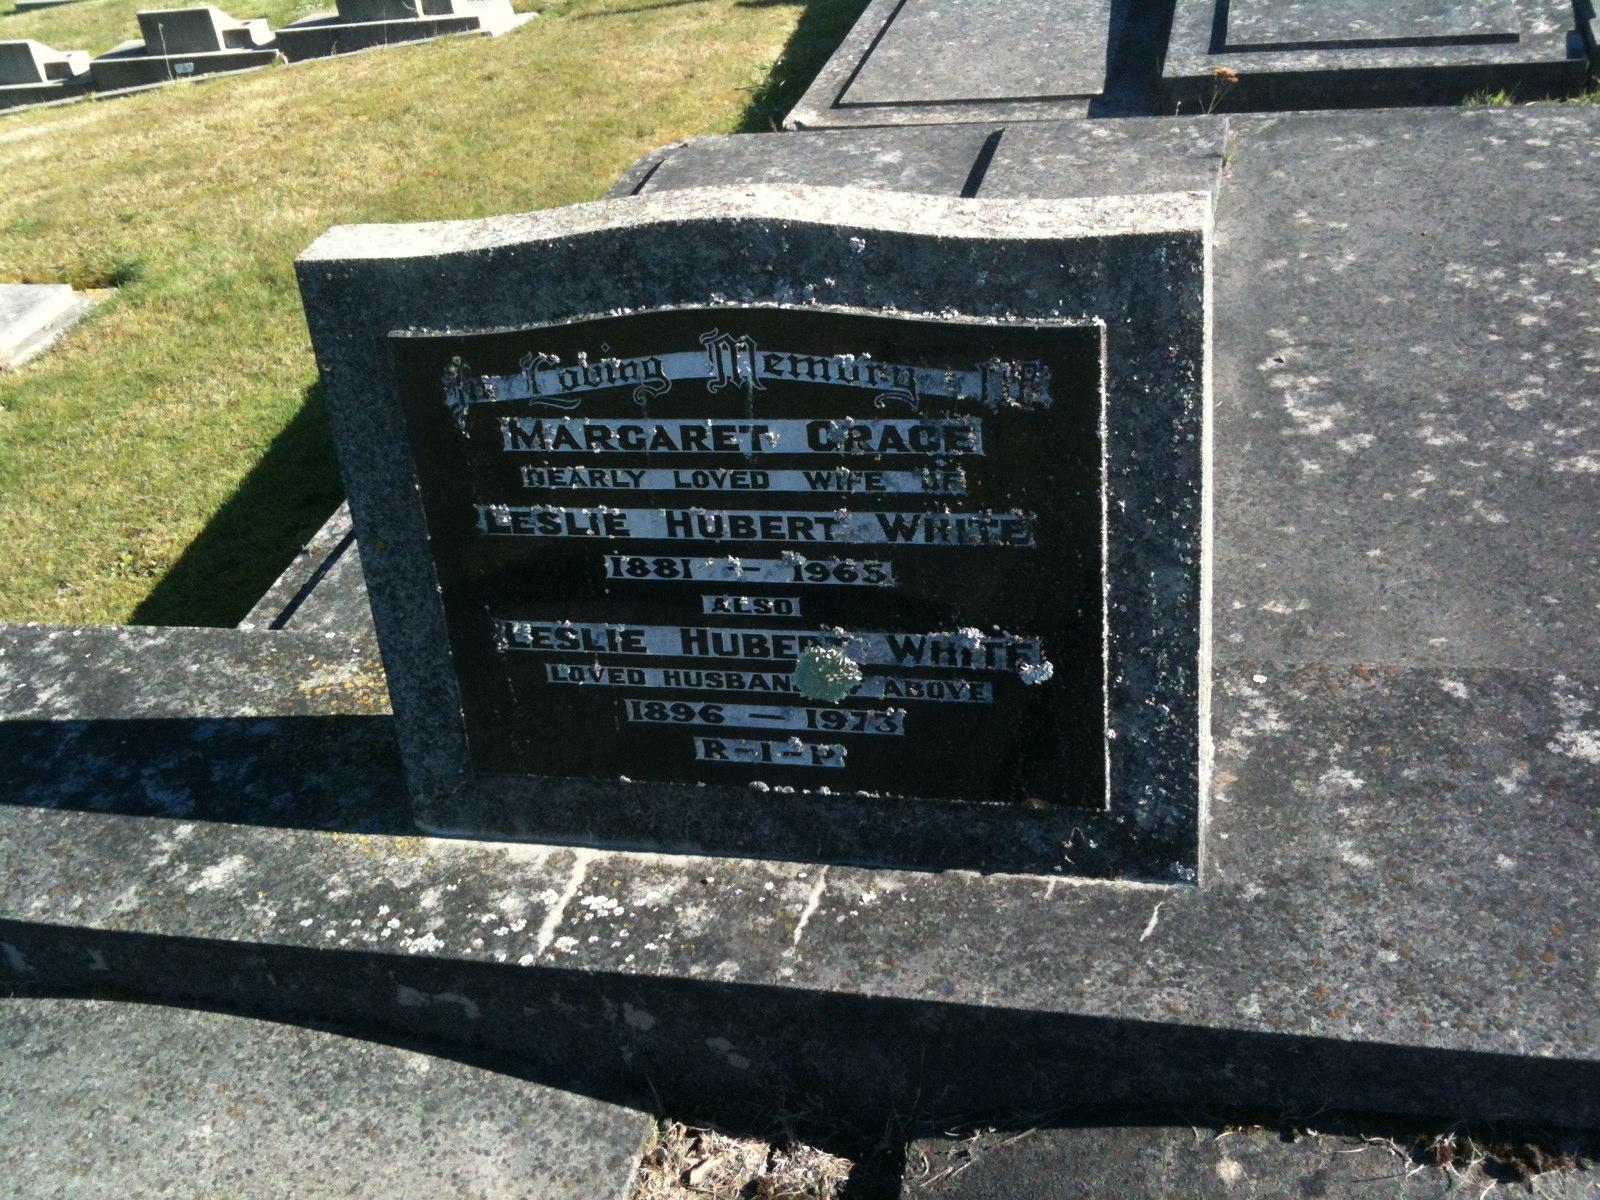upright: (275, 158, 1283, 1063)
